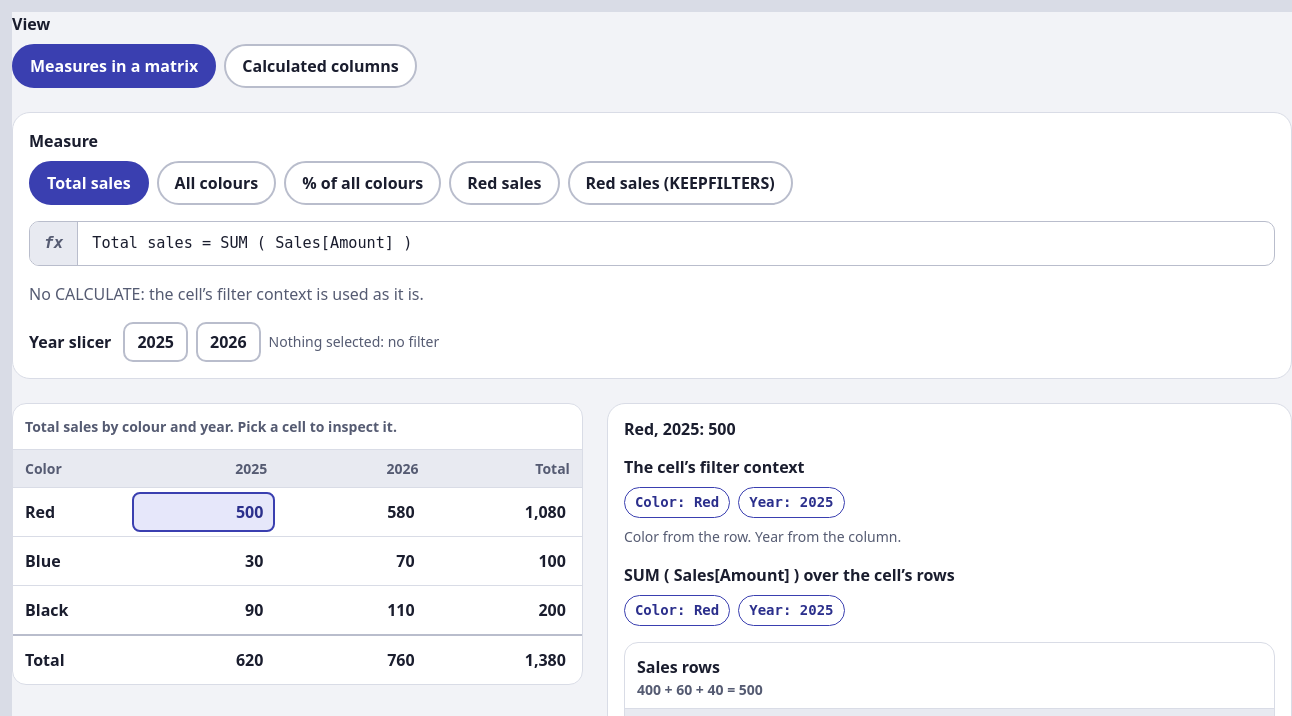
Test: Filter context simulator › inspects a cell: its filters and the rows it counts
The image size is (1292, 716).
Expected: the heading "Red, 2025: 500" is shown, [624,418,736,440]
Expected: the text "400 + 60 + 40 = 500" is shown, [637,680,763,699]
Click the button named "Blue, Total: 100": click(506, 561) [435,541,578,581]
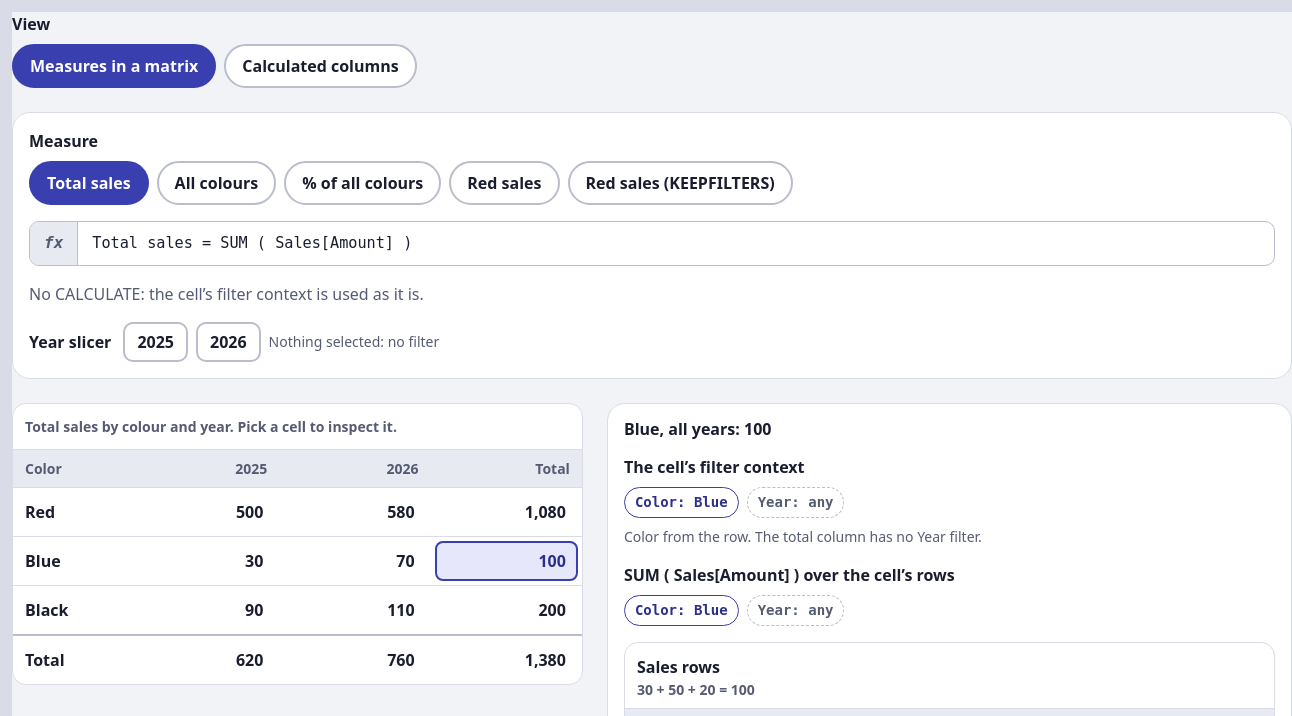
Result: the heading "Blue, all years: 100" is shown at [624,418,772,440]
